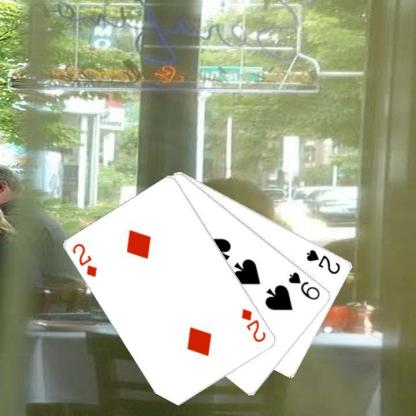2D: (238, 306, 268, 343), (70, 240, 99, 278)
2S: (304, 246, 342, 276)
9S: (286, 269, 322, 301)
